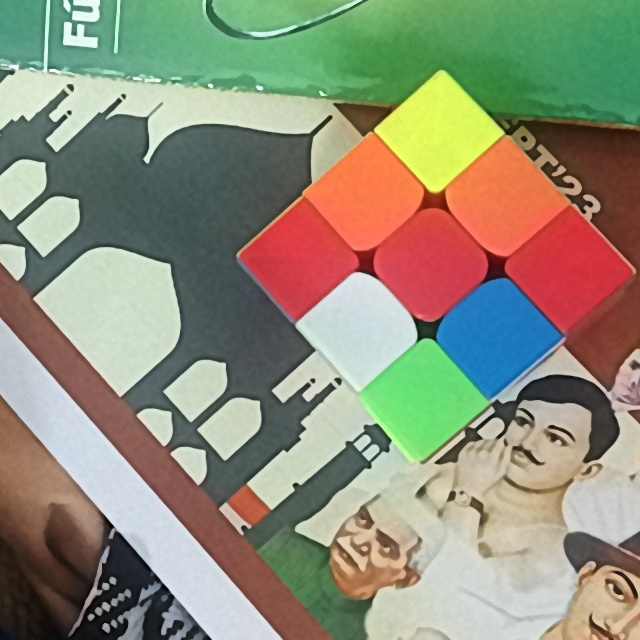tile: (466, 302, 533, 367), (328, 296, 393, 360), (388, 370, 454, 433), (396, 231, 464, 292), (405, 97, 469, 161), (539, 240, 605, 302), (263, 228, 326, 292), (472, 169, 531, 232), (332, 170, 398, 226)
